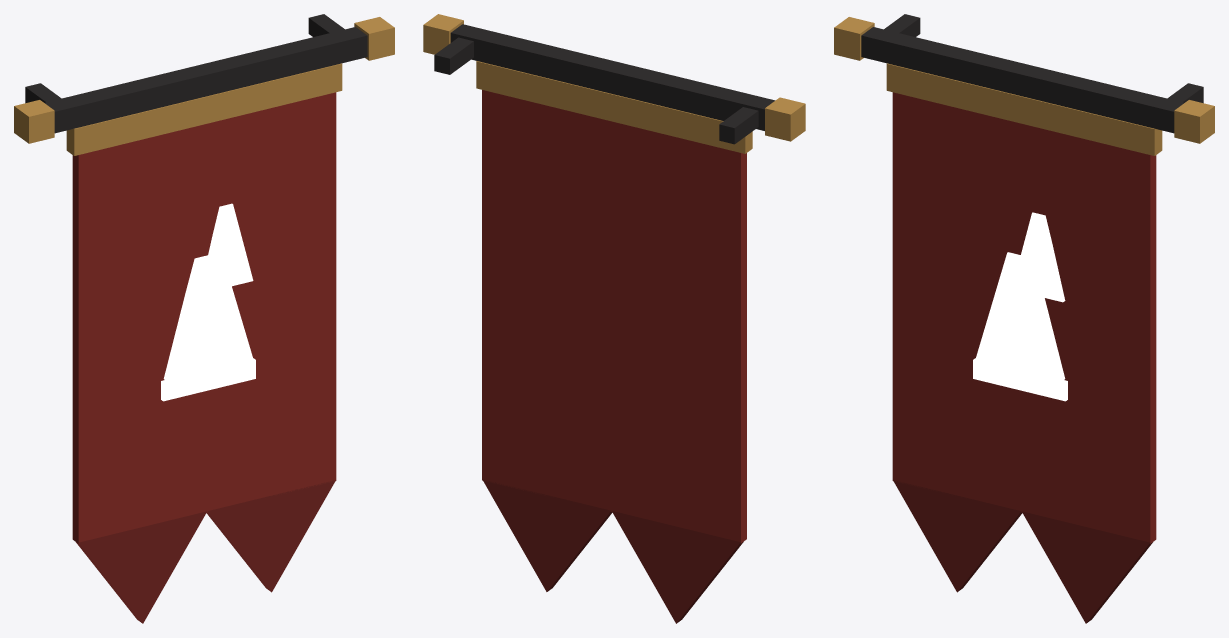
Rendered from banner_hanging.glb.
3 views of the same model, side by side, from view 1: azimuth 30°, elevation 25°; view 2: azimuth 150°, elevation 25°; view 3: azimuth 330°, elevation 25° (orthographic).
Visible parts, largest first — view 1: banner_hanging; view 2: banner_hanging; view 3: banner_hanging.
Part boxes in pixels (x1,y1,x2,y2): banner_hanging: [14, 14, 394, 623]; banner_hanging: [423, 14, 805, 623]; banner_hanging: [834, 14, 1214, 623].
Bounding box in the file's own units: 1.42 × 2 × 0.25.
